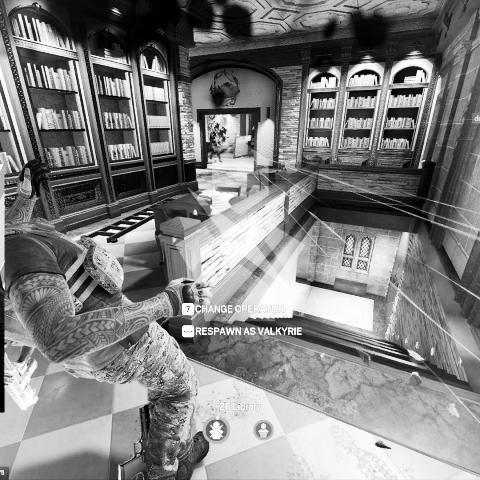Character: (0, 156, 215, 480), (208, 129, 225, 163)
